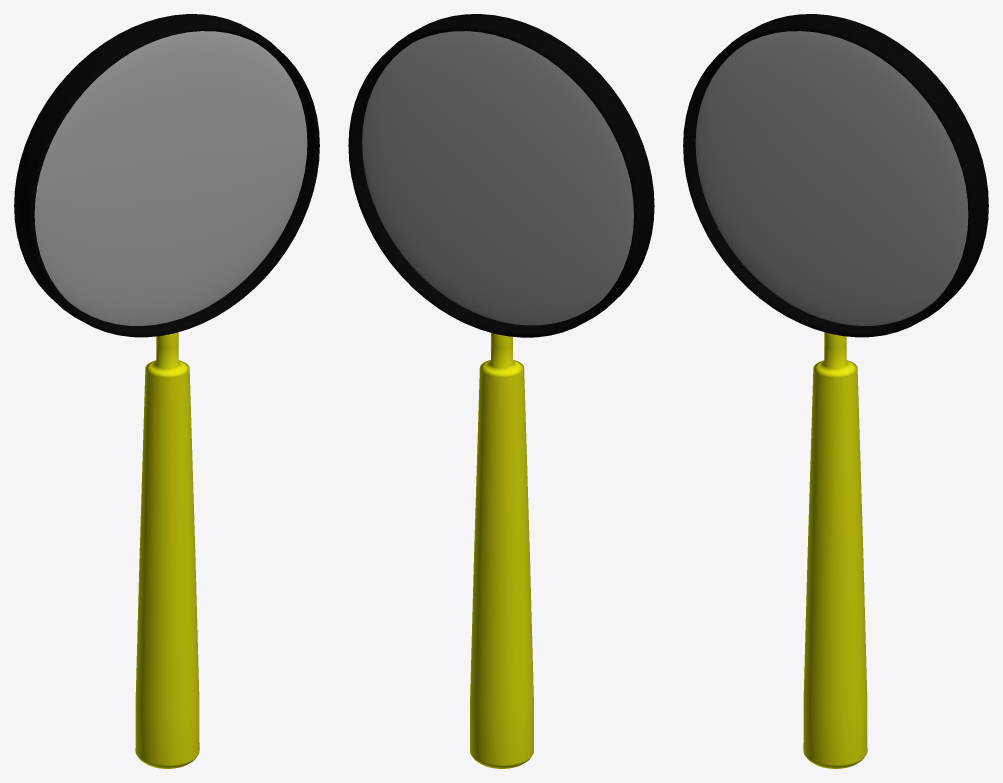
Rendered from magnifying glass.fbx.
3 renders of one model, left to right at view 1: azimuth 30°, elevation 25°; view 2: azimuth 150°, elevation 25°; view 3: azimuth 330°, elevation 25°, orthographic.
Visible parts, largest first — view 1: MAGNIFYING_GLASS; view 2: MAGNIFYING_GLASS; view 3: MAGNIFYING_GLASS.
Part boxes in pixels (x1,y1,x2,y2): MAGNIFYING_GLASS: (14,14,319,768); MAGNIFYING_GLASS: (348,14,654,768); MAGNIFYING_GLASS: (683,14,988,768).
Size of the model in its own units: 3.58 by 8.65 by 0.6781.
